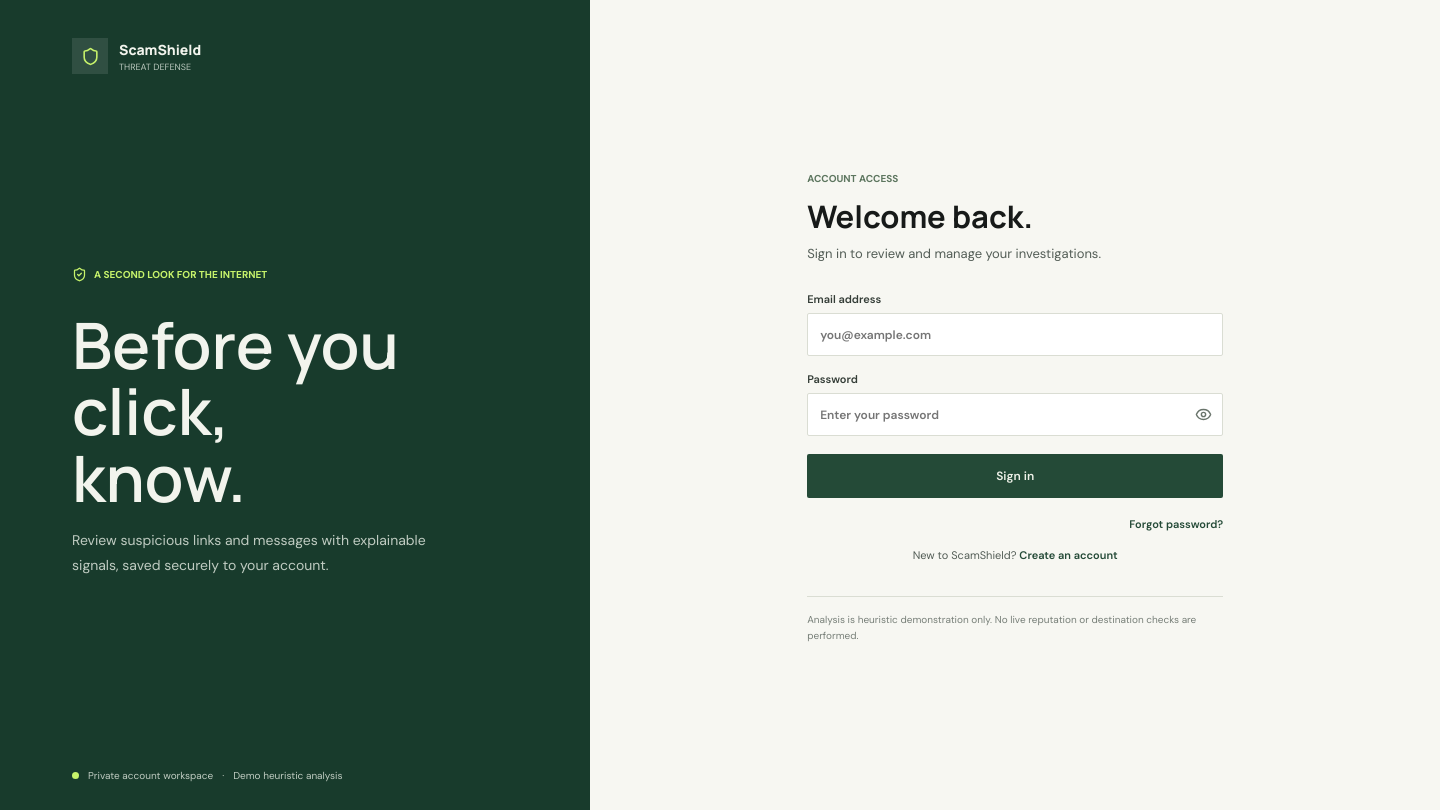
Scenario: authentication UI › shows inline validation instead of submitting an invalid email
This screenshot has width=1440, height=810.
In the field labelled "Email address": coordinates (1015, 335) [807,313,1223,356], type "not-an-email"
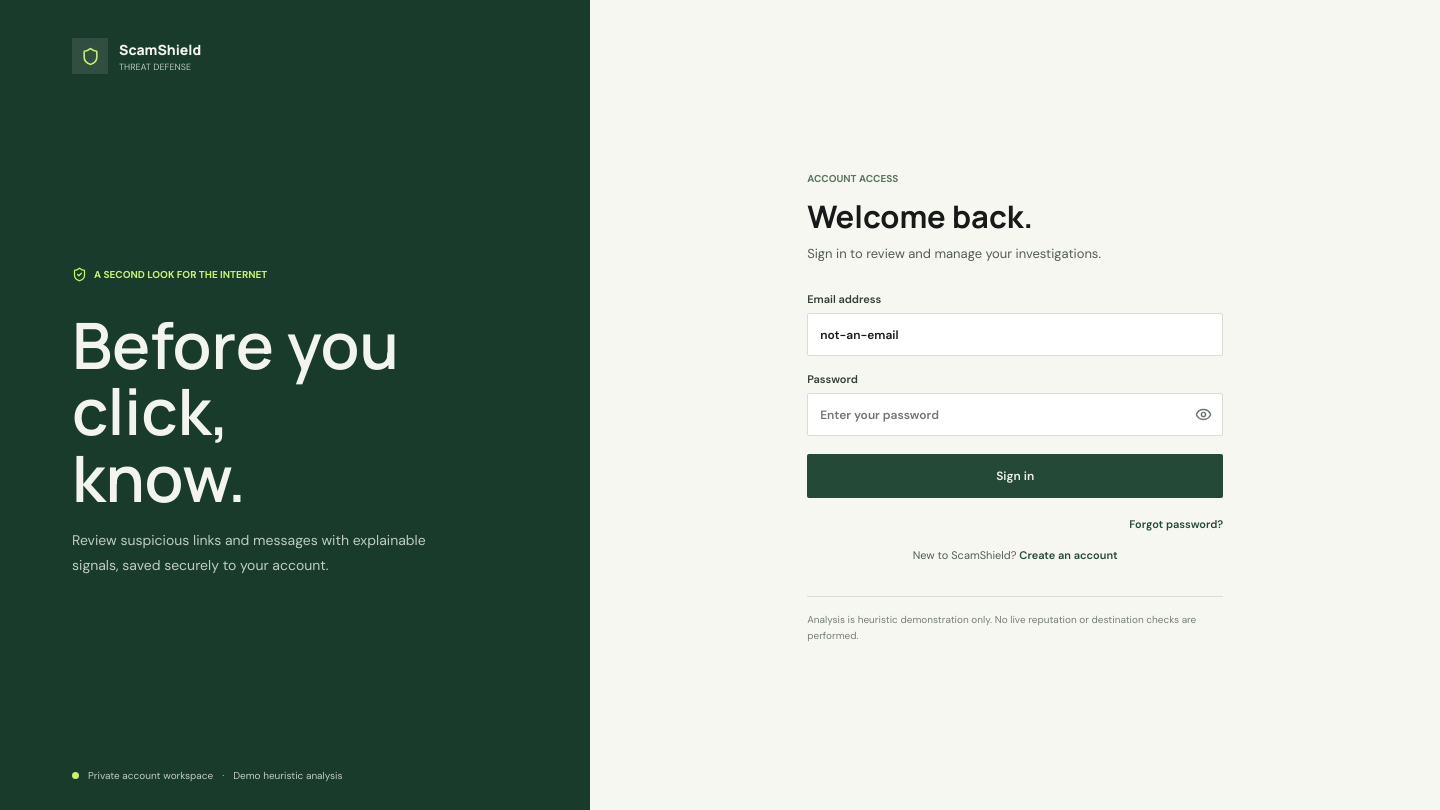
In the password field labelled "Password": coordinates (1015, 415) [807,393,1223,436], type "something"
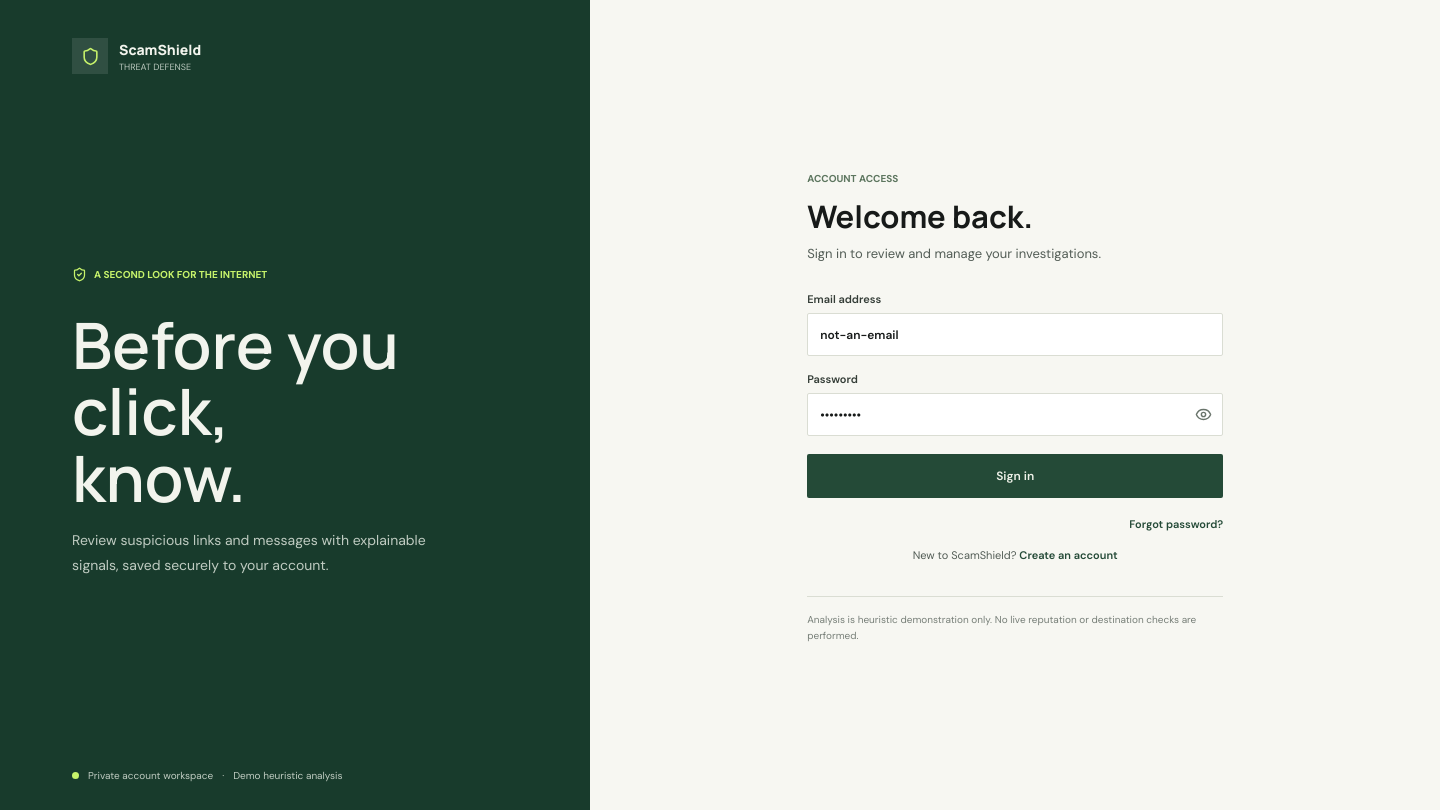
Click the button "Sign in": coordinates (1015, 476) [807,454,1223,498]
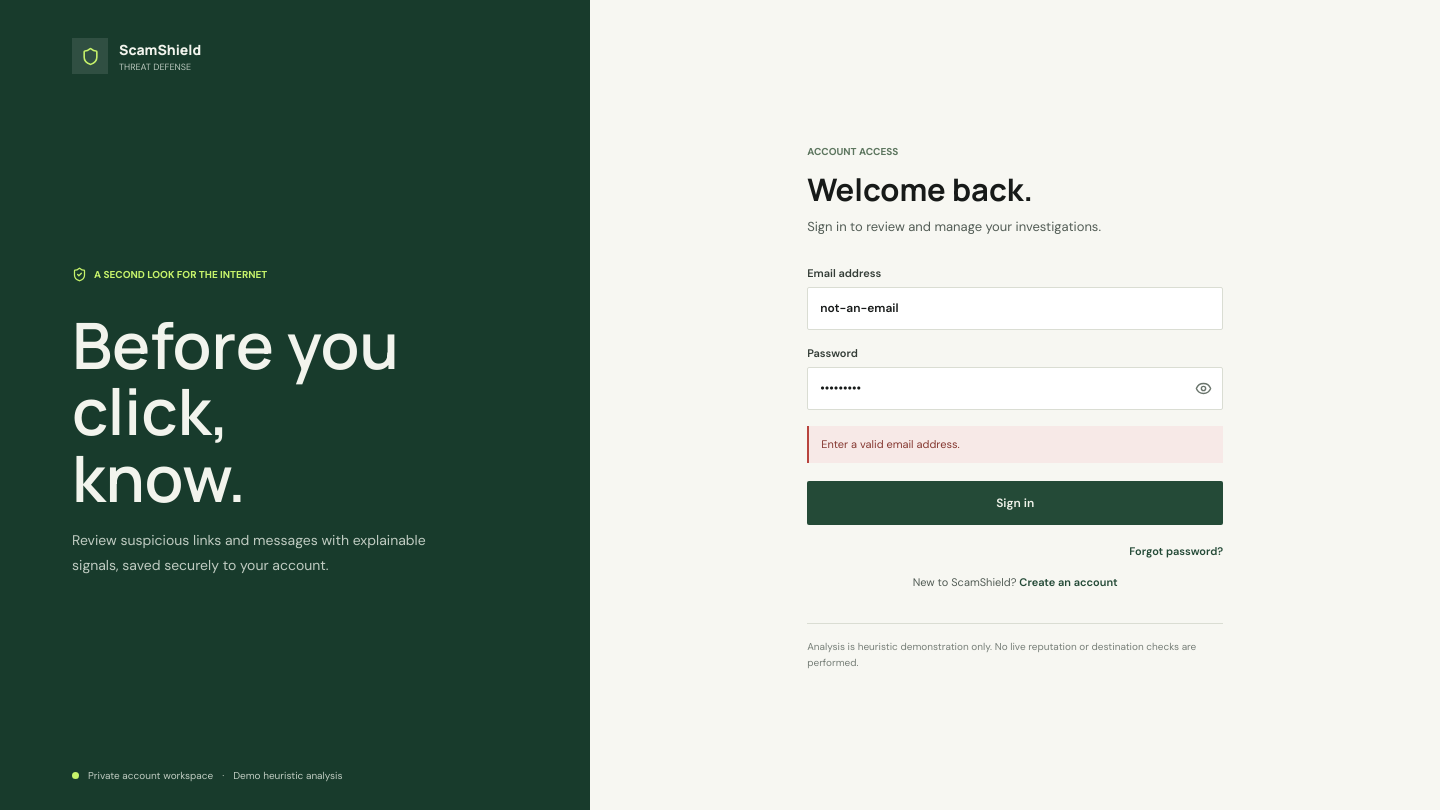
Now the message shows "valid email", box [821,437,960,451]
